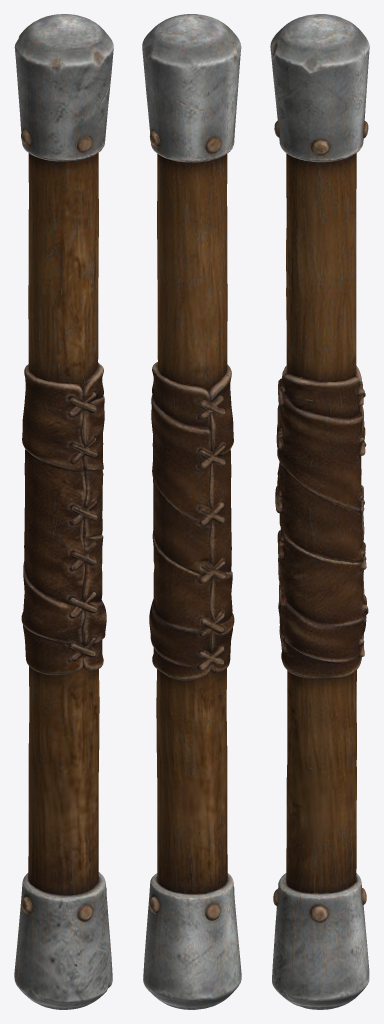
File: quarterstaff.glb
The picture shows the model from 3 angles, left to right: view 1: azimuth 30°, elevation 25°; view 2: azimuth 210°, elevation 25°; view 3: azimuth 270°, elevation 25°; orthographic projection.
Parts seen in each view (by area): view 1: Mesh_0; view 2: Mesh_0; view 3: Mesh_0.
Boxes of the visible parts, bbox=[...] form: Mesh_0: bbox=[14, 14, 113, 1009]; Mesh_0: bbox=[142, 14, 241, 1009]; Mesh_0: bbox=[270, 14, 369, 1009].
Bounding box in the file's own units: 0.1641 × 1.8 × 0.1643.
Materials: 1 (1 with a texture image).
